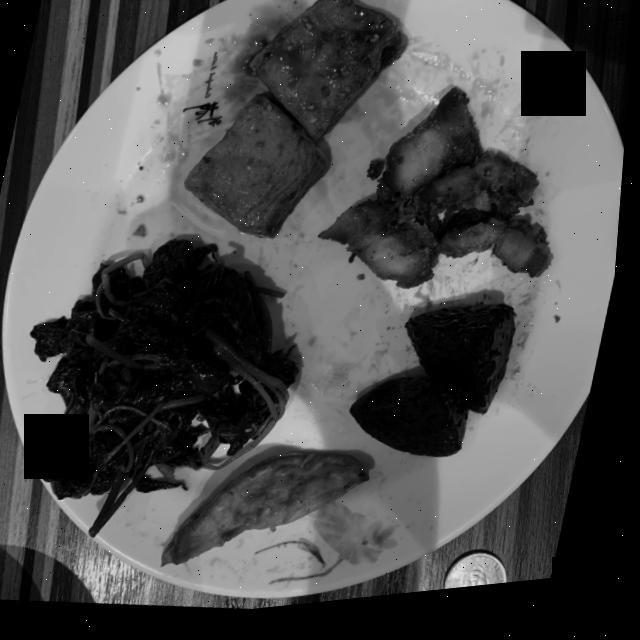coin: (454, 562, 517, 600)
creamy tofu: (187, 0, 410, 244)
red grilled pork: (323, 97, 557, 298)
sweet potato leaves: (36, 244, 304, 539)
